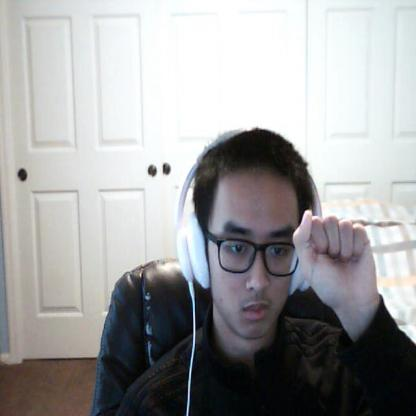fist: (288, 206, 386, 303)
